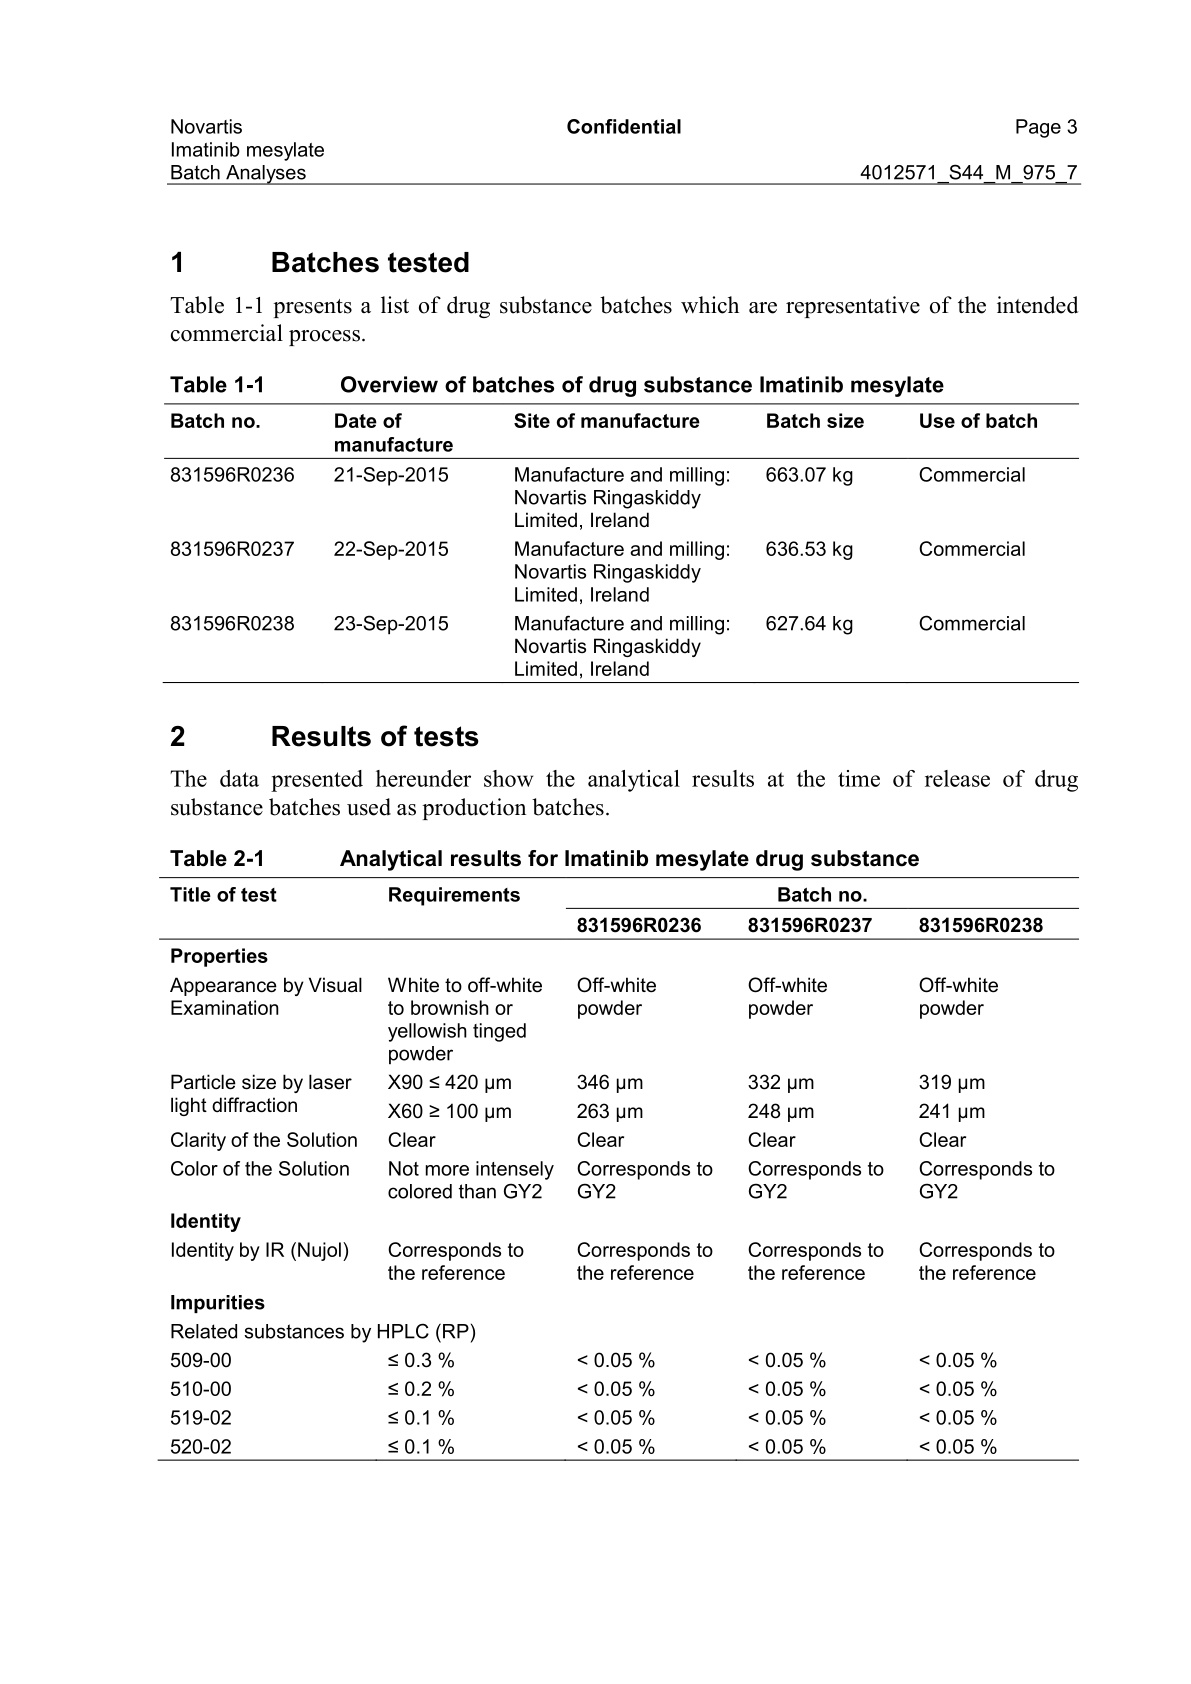partial_lined: (162, 403, 1080, 684)
partial_lined_merged_cells: (159, 876, 1079, 1461)
